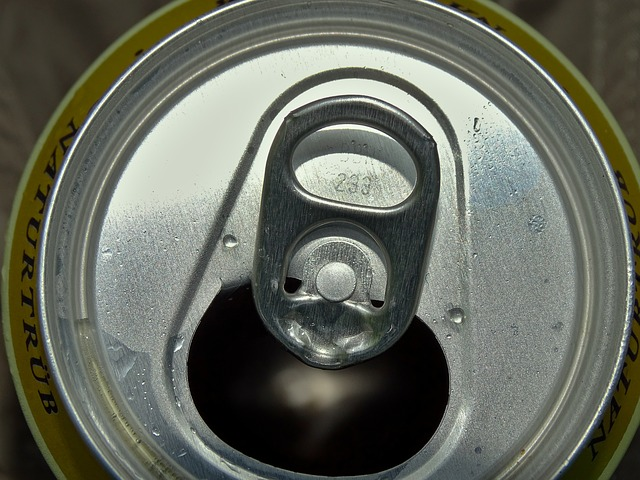can: (1, 1, 639, 480)
